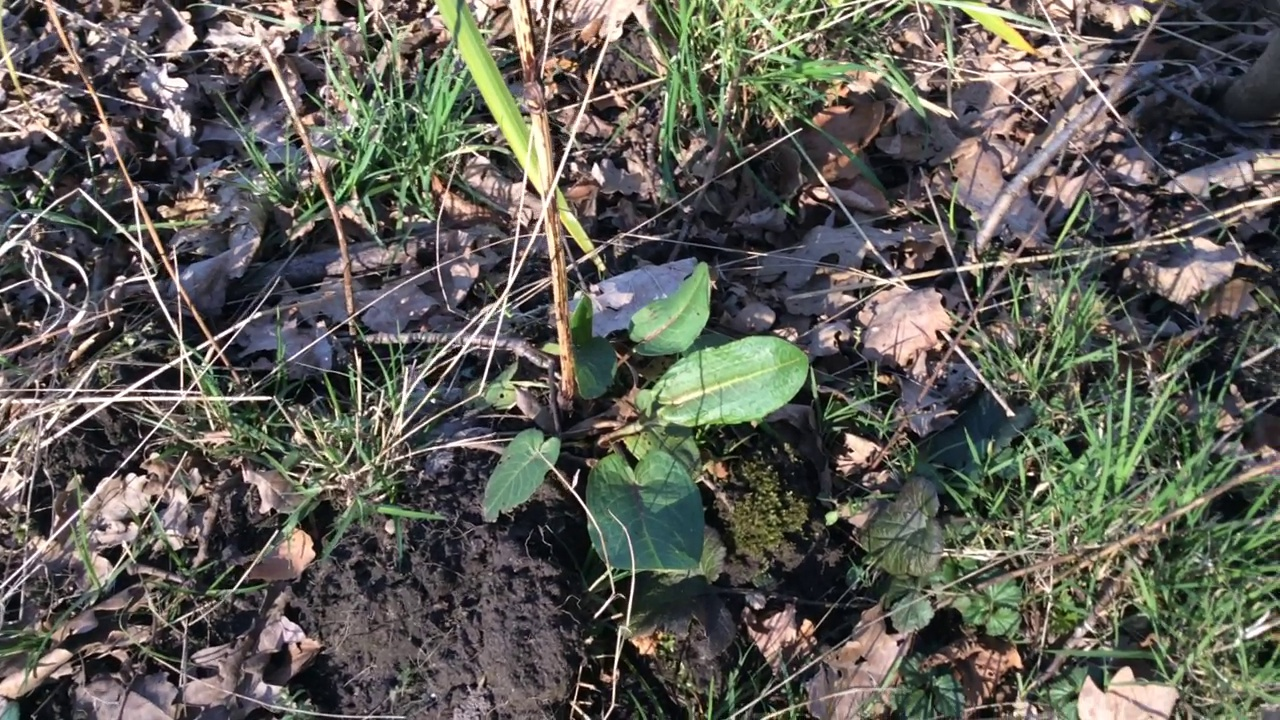rumex: (477, 260, 810, 573)
